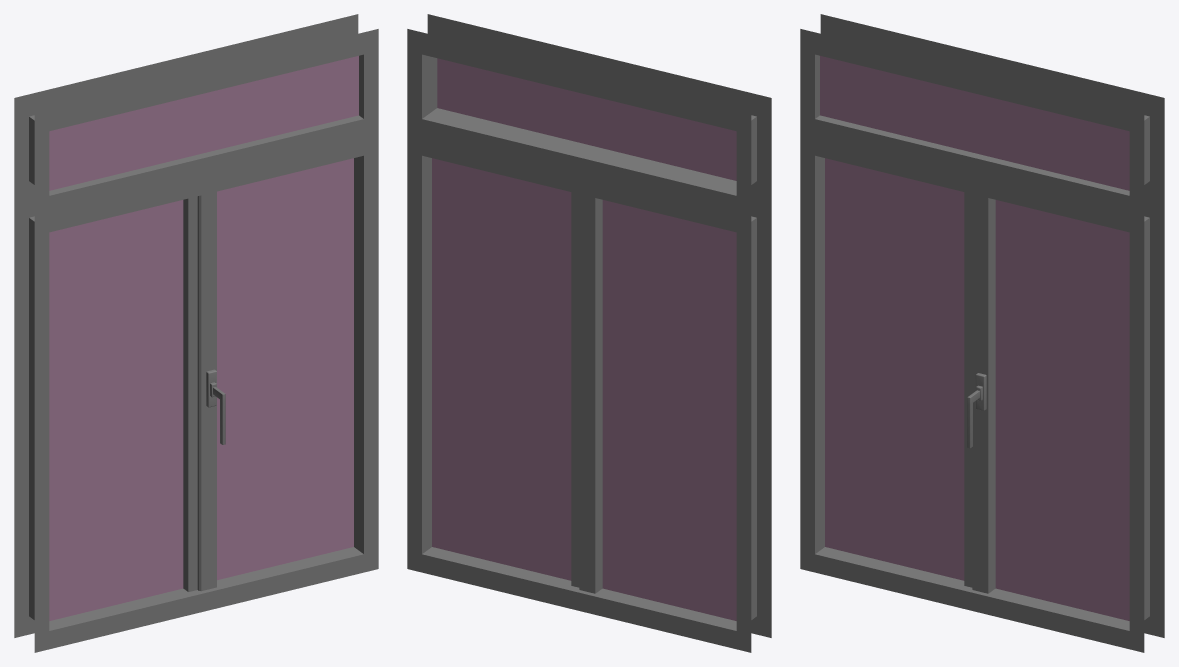
The model's file is ME_Fenêtre1.fbx.
3 renders of one model, left to right at view 1: azimuth 30°, elevation 25°; view 2: azimuth 150°, elevation 25°; view 3: azimuth 330°, elevation 25°, orthographic.
Visible parts, largest first — view 1: Plane004; view 2: Plane004; view 3: Plane004.
Boxes of the visible parts, x1=… form: Plane004: x1=14, y1=14, x2=378, y2=652; Plane004: x1=407, y1=14, x2=771, y2=652; Plane004: x1=800, y1=14, x2=1164, y2=652.
Bounding box in the file's own units: 80 × 120 × 12.38.
